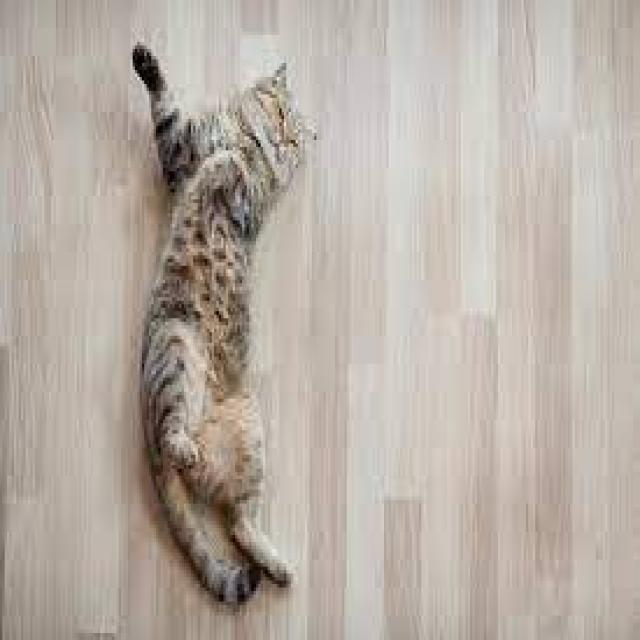cat: (130, 41, 317, 612)
